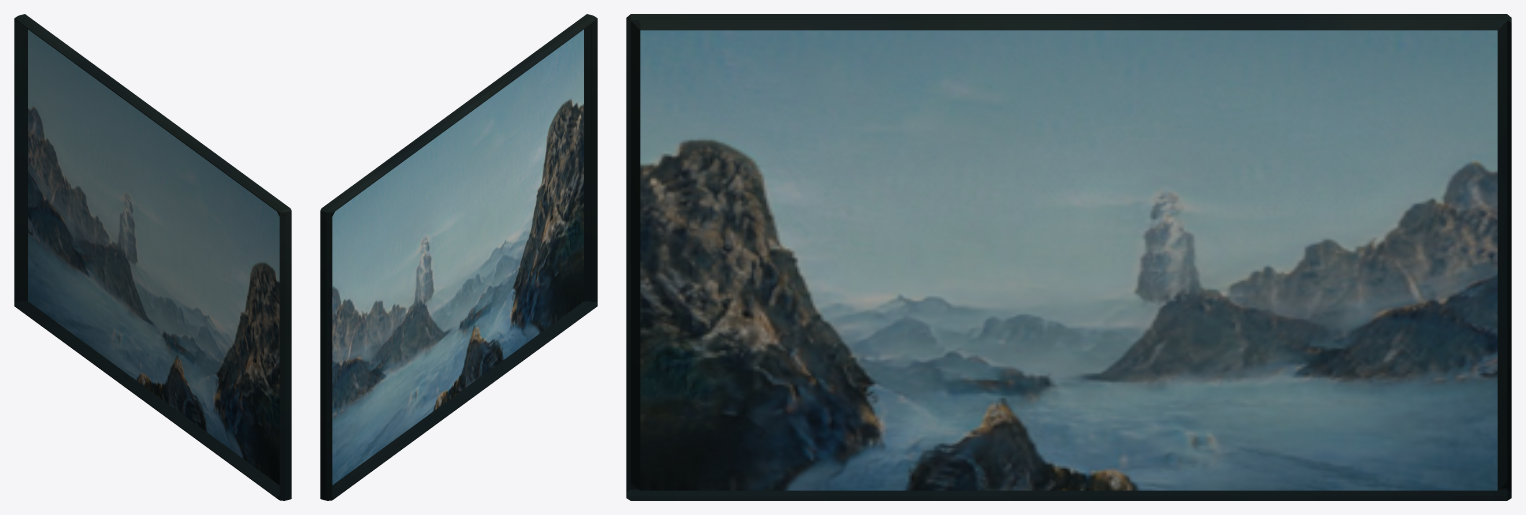
Rendered from landscape-painting-2.gltf.
3 views of the same model, side by side, from view 1: azimuth 30°, elevation 25°; view 2: azimuth 150°, elevation 25°; view 3: azimuth 270°, elevation 25° (orthographic). The views are drawn at different scales.
Parts seen in each view (by area): view 1: landscape portrait 2; view 2: landscape portrait 2; view 3: landscape portrait 2.
Boxes of the visible parts, left/top/right/bottom form: landscape portrait 2: left=14, top=14, right=291, bottom=500; landscape portrait 2: left=320, top=14, right=597, bottom=500; landscape portrait 2: left=626, top=14, right=1511, bottom=500.
Bounding box in the file's own units: 0.3032 × 7.83 × 13.06.
Materials: 1 (1 with a texture image).
